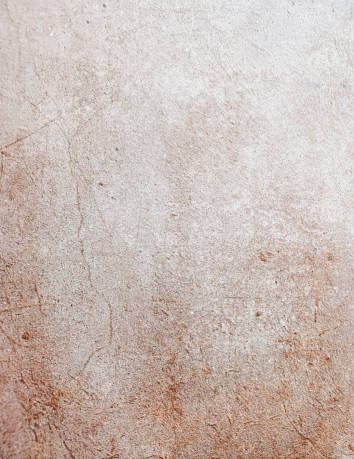Corrosion: (1, 150, 354, 459)
